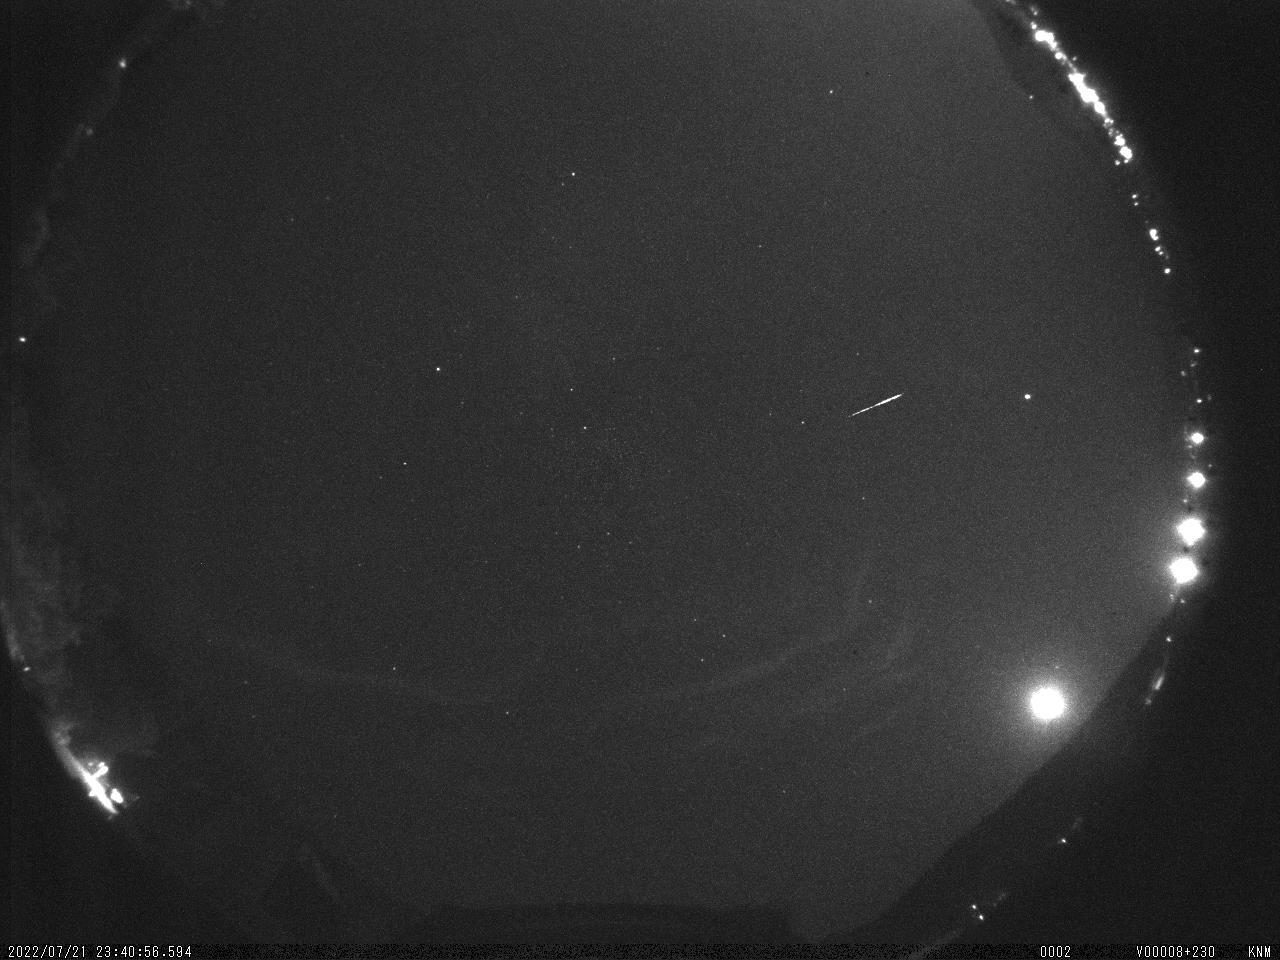Meteor: (844, 388, 909, 418)
